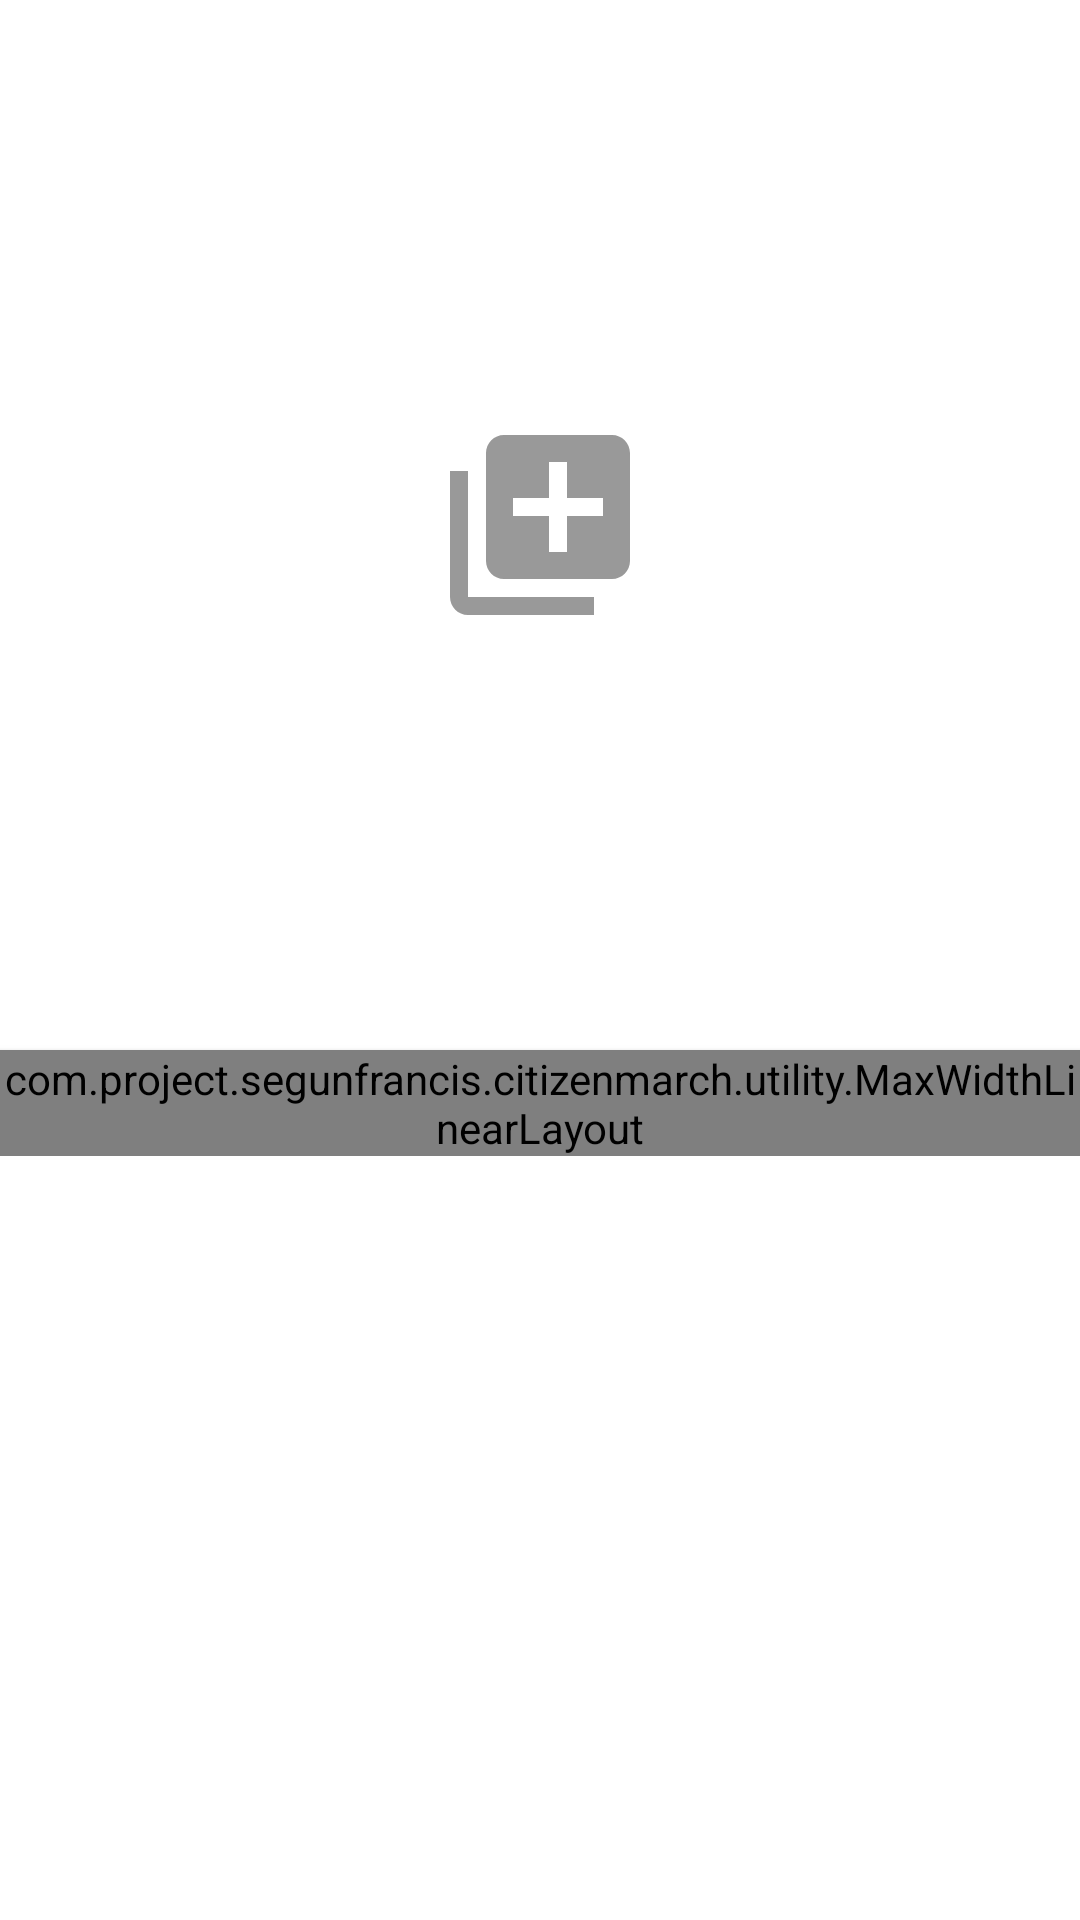

Point at icon controls on the screen. Image size 1080 × 1920, points as [x,y].
click on image to add a photo: [540,525]
